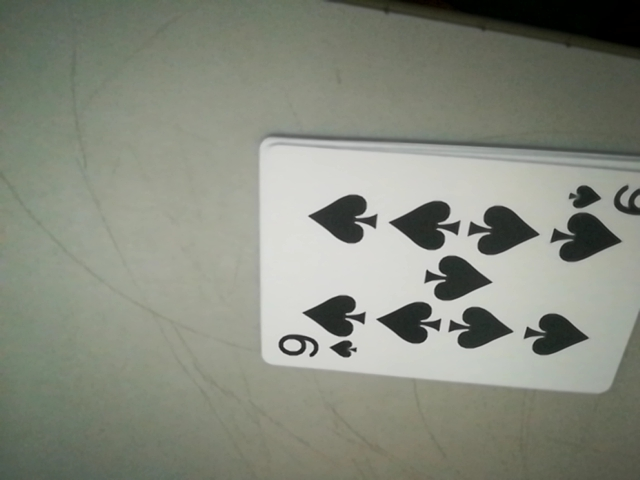ht 9: (268, 331, 367, 367)
